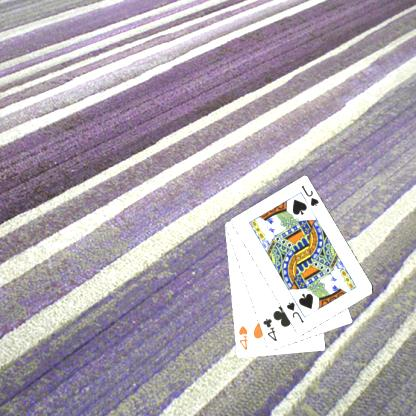4C: (262, 316, 280, 343)
4H: (237, 323, 251, 352)
JS: (300, 183, 322, 208), (285, 300, 307, 324)
